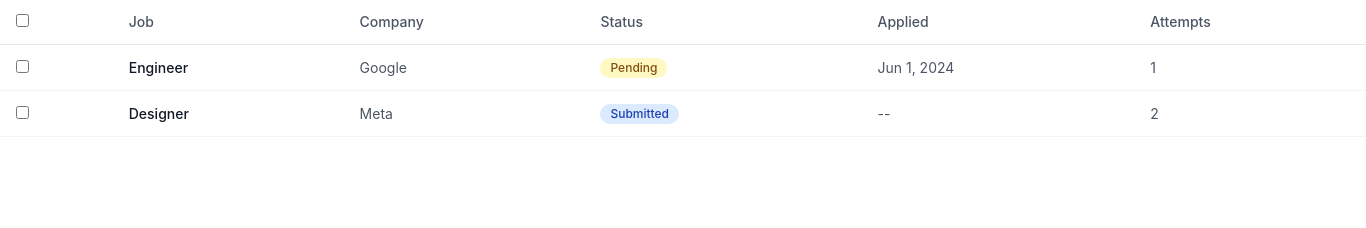
Test: ApplicationTable › shows bulk actions when items selected
This screenshot has width=1366, height=228.
What coordinates should you click on to do the following:
click the checkbox named "Select application Engineer"
I would click on:
 (22, 66)
Its box is x1=16 y1=60 x2=29 y2=72.
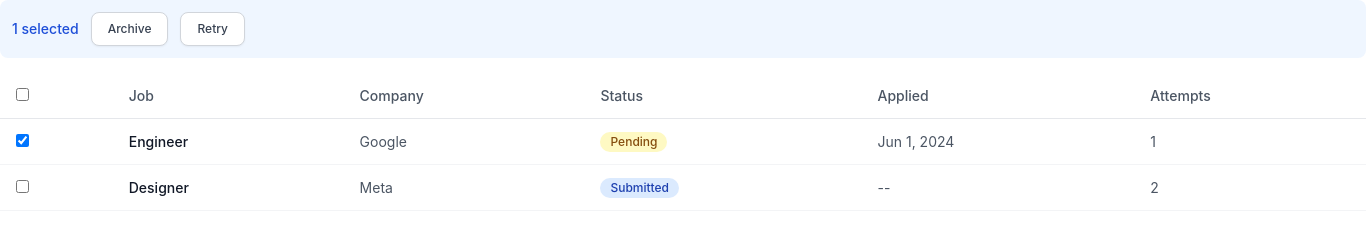
Now the text "1 selected" is shown, box x1=12 y1=19 x2=79 y2=39
Now the button "Archive" is shown, box x1=91 y1=12 x2=168 y2=46
Now the button "Retry" is shown, box x1=180 y1=12 x2=245 y2=46
